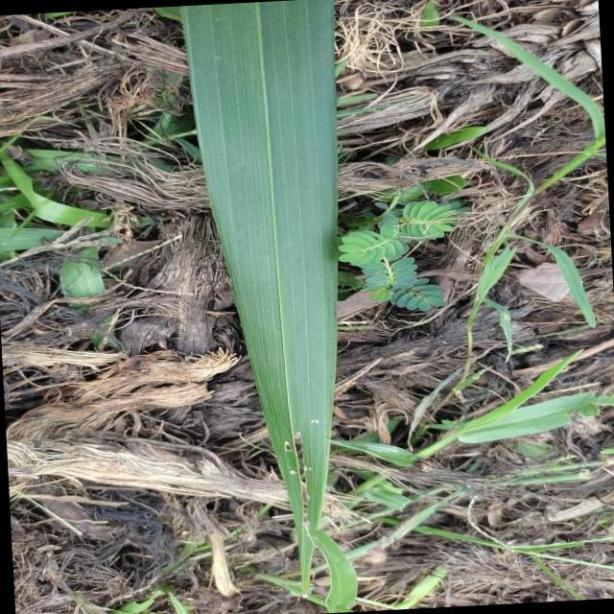Boron: (180, 1, 356, 614)
